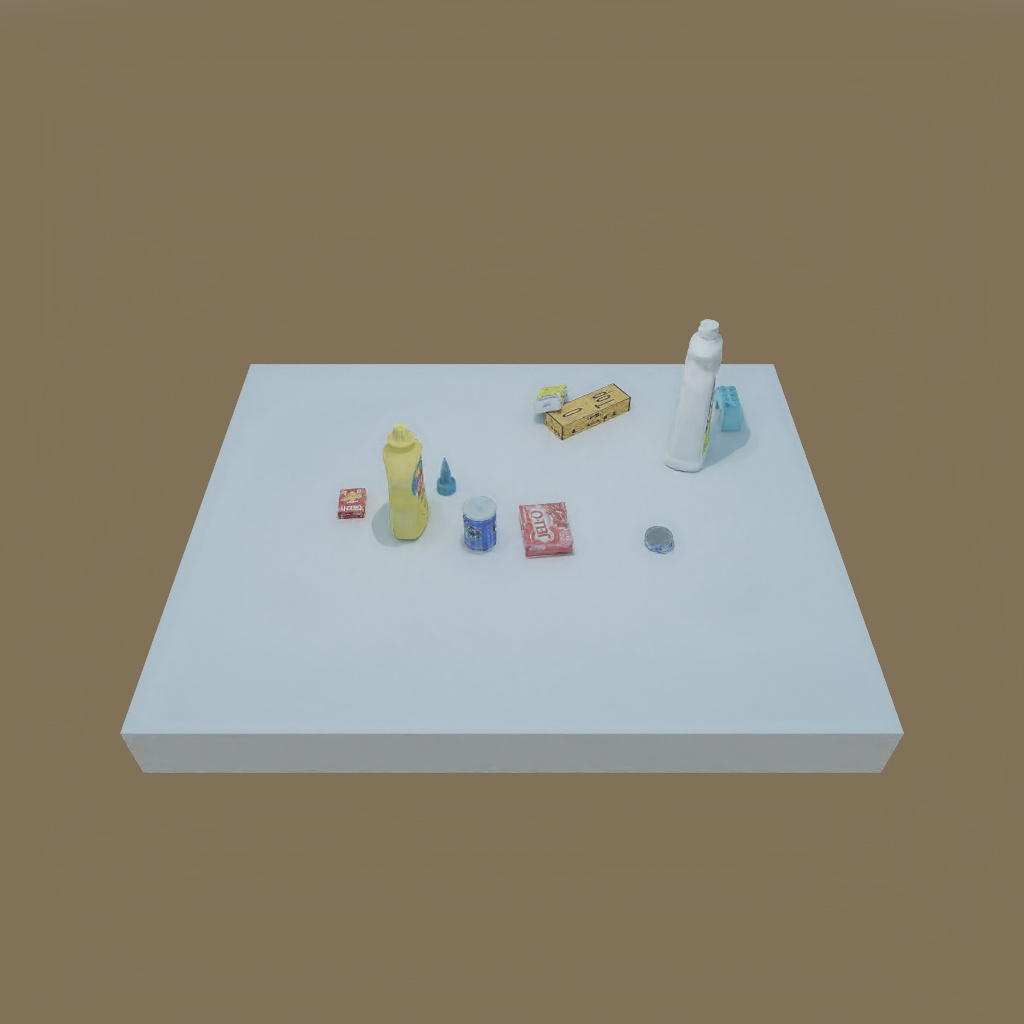gelatin_box: (516, 499, 576, 558)
jenga: (547, 388, 631, 436)
master_chef_can: (463, 497, 503, 556)
mustard_bottle: (382, 428, 433, 541)
